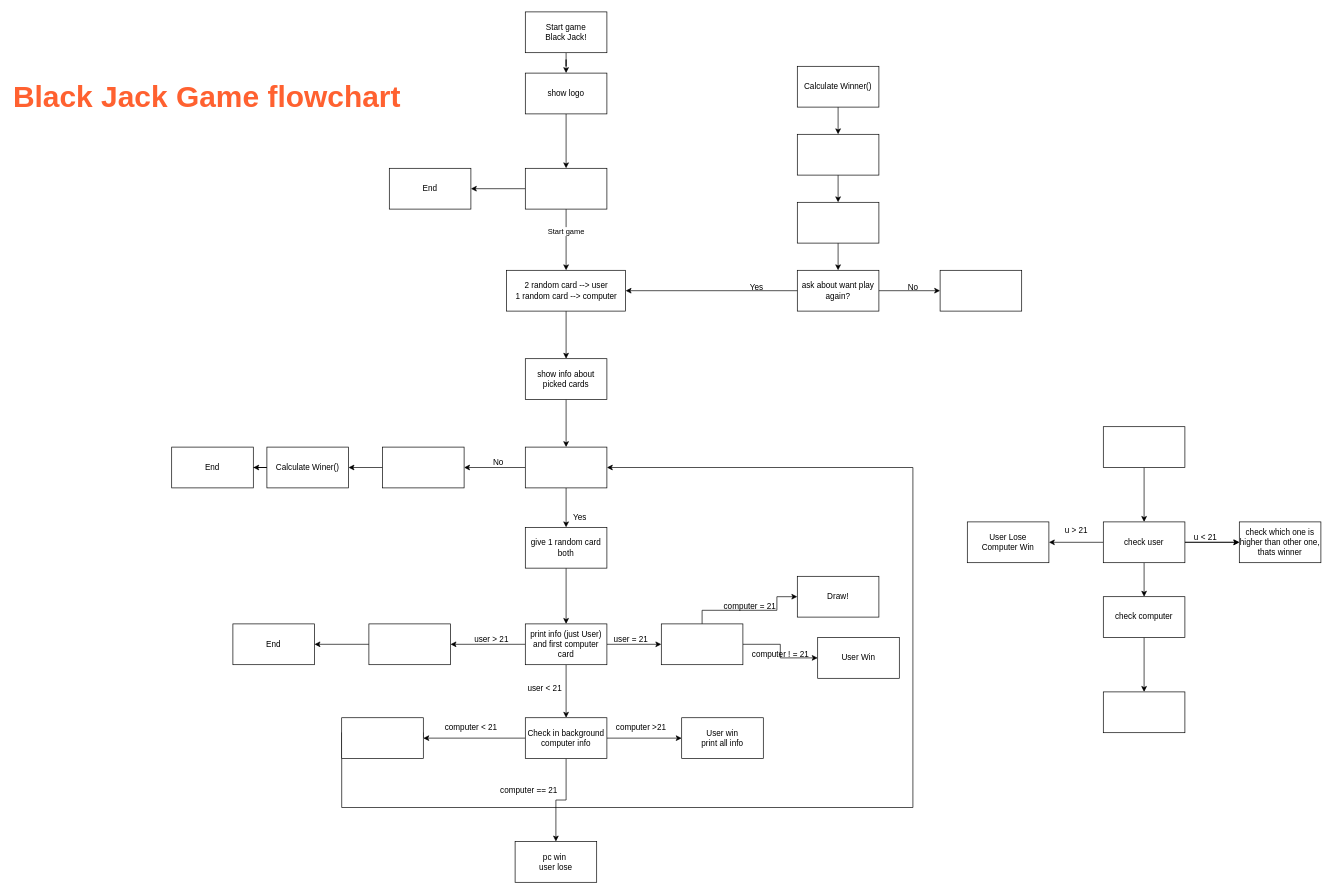
Image size: 1333x894. Some labels were removed from this diagram. Here are the shapes that lost their labels. From the top down, the box of each, then its label:
(797, 134, 879, 175): print info both
(525, 168, 607, 209): introduction user want play?
(797, 202, 879, 243): release the winner
(939, 270, 1022, 311): Print thanks good bye
(382, 446, 464, 488): give 1 random card to computer
(525, 446, 607, 488): wanna pick card?
(1103, 426, 1185, 468): calculate winner():
(368, 623, 451, 665): User Lose
(661, 623, 743, 665): check computer info
(1103, 691, 1185, 733): reveal Winer
(341, 717, 423, 759): print all user info first computer info ask for picking card
